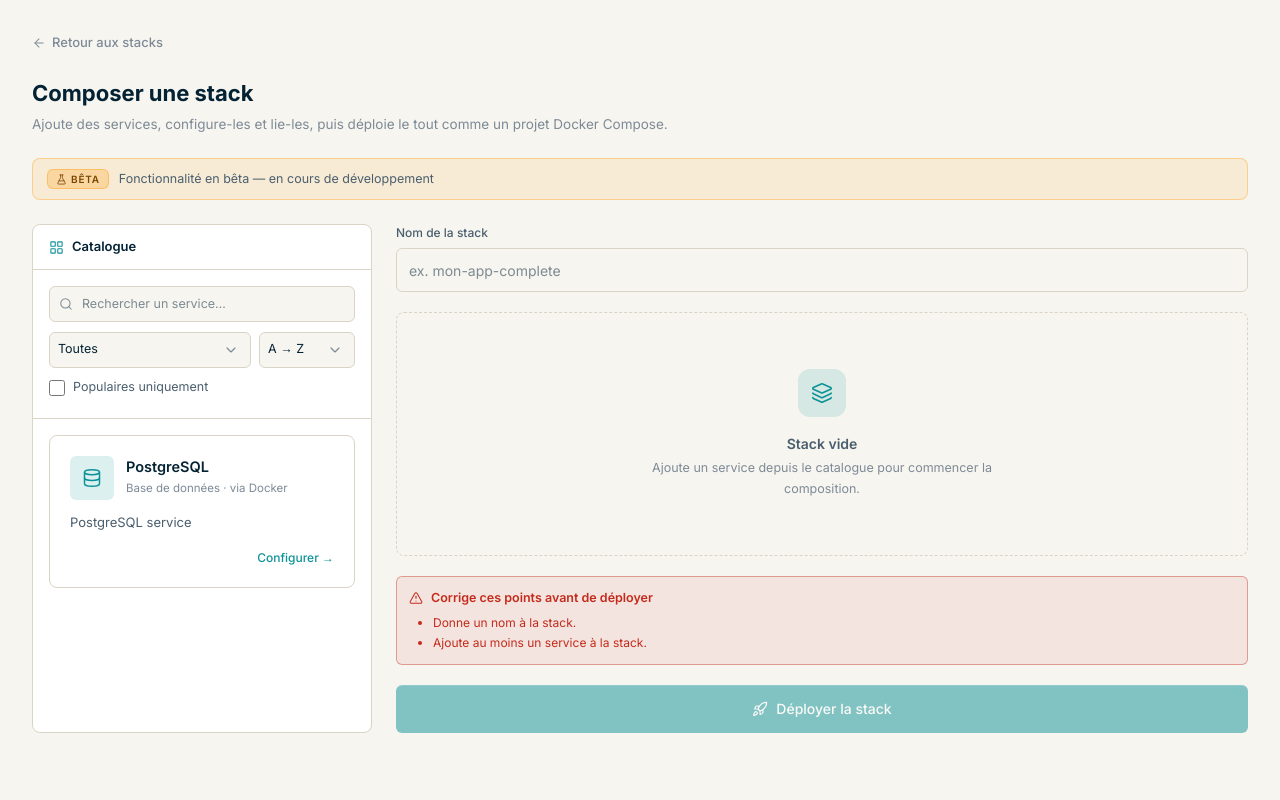
StackBuilderPage › affiche un message quand aucun service ne correspond aux filtres
Check: the text "PostgreSQL" is shown, box [126, 456, 209, 478]
Type "zzz" into the search field labelled "Rechercher un service".
click(202, 304); type("zzz")  # box [49, 286, 355, 322]
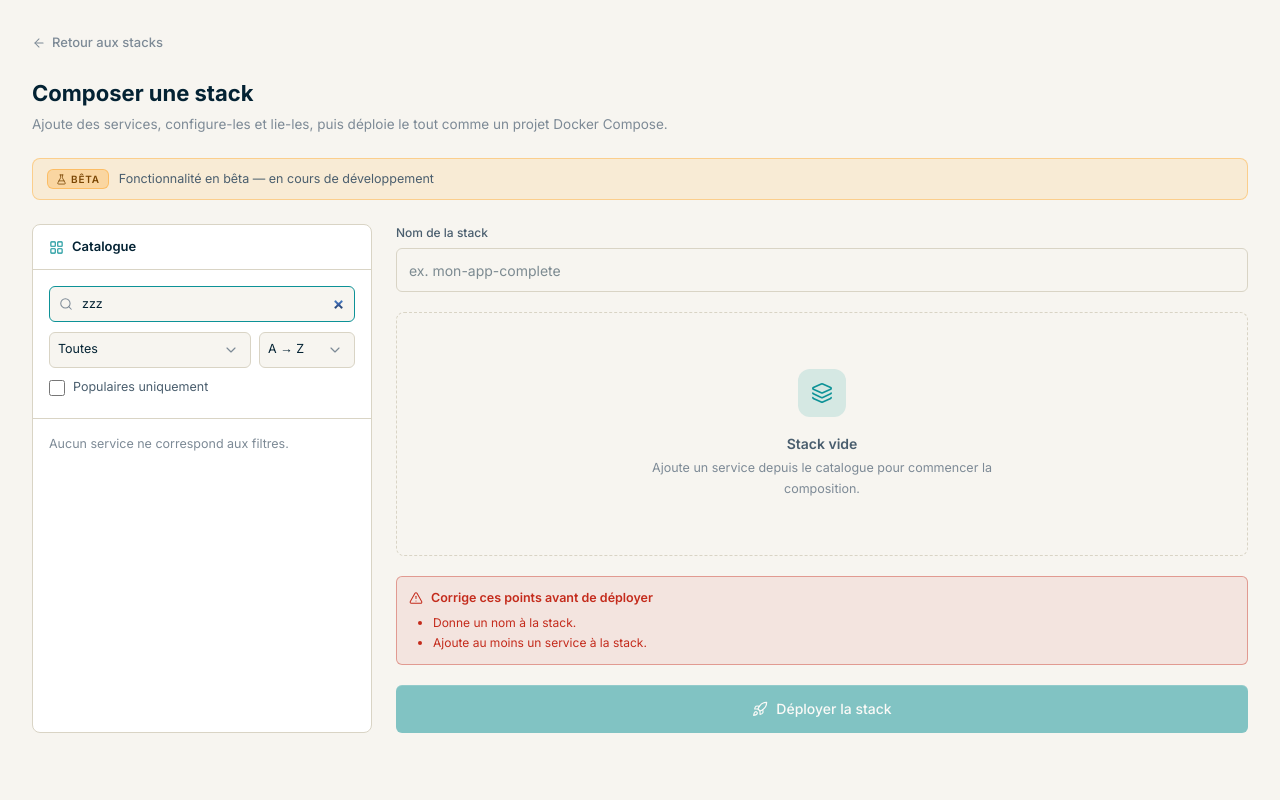
Check: the text "Aucun service ne correspond aux filtres." is shown, box [49, 436, 289, 451]
